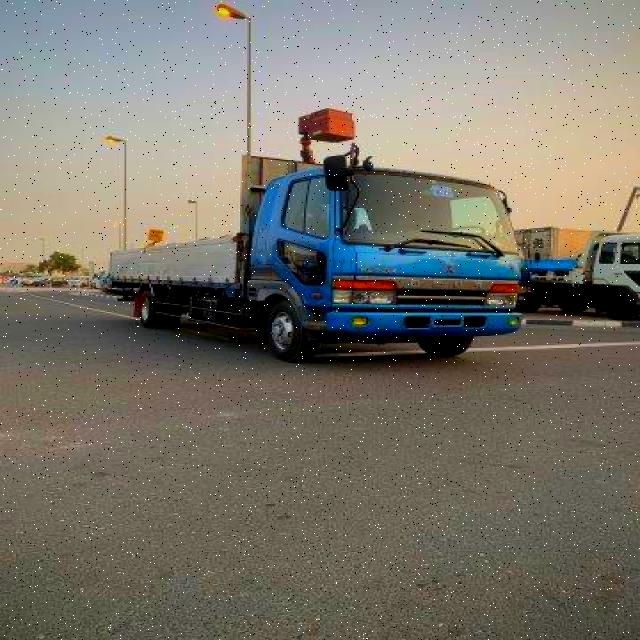truck: (107, 150, 528, 362)
